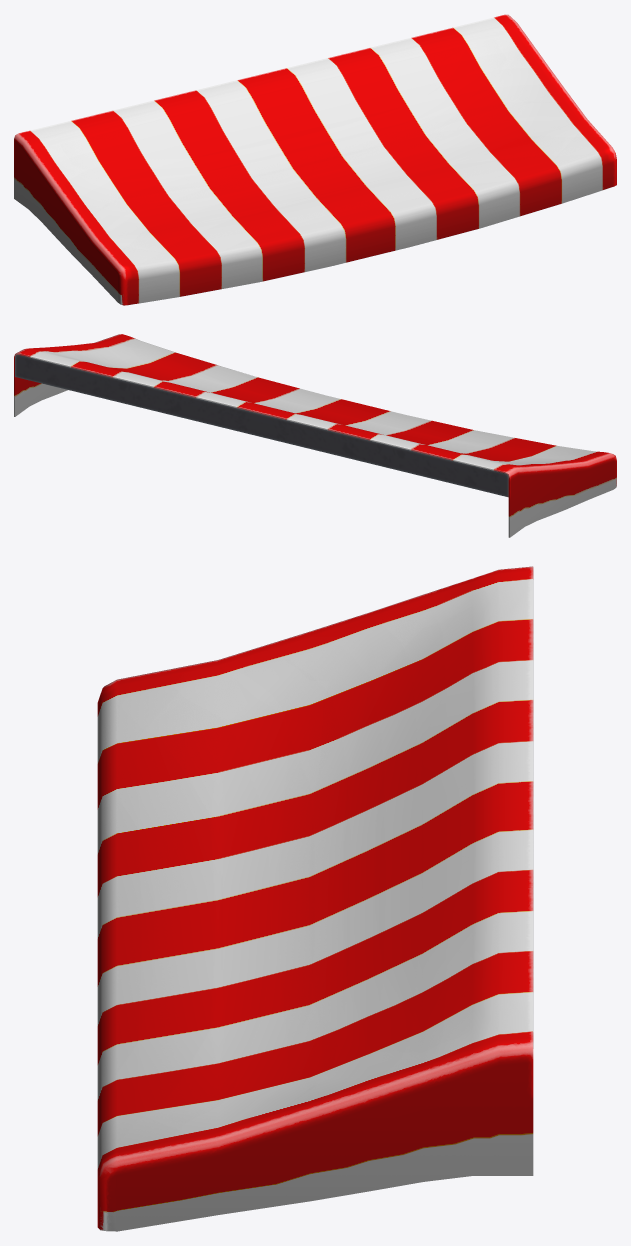
The model's file is StreetAwning01_1.FBX.
3 renders of one model, top to bottom at view 1: azimuth 30°, elevation 25°; view 2: azimuth 150°, elevation 25°; view 3: azimuth 270°, elevation 25°, orthographic. The views are drawn at different scales.
Visible parts, largest first — view 1: StreetAwning01_1; view 2: StreetAwning01_1; view 3: StreetAwning01_1.
Part boxes in pixels (<box>): StreetAwning01_1: <box>14,14,616,305</box>; StreetAwning01_1: <box>14,334,616,537</box>; StreetAwning01_1: <box>97,566,533,1231</box>.
Size of what is drawn, in the model's own units: 4.52 by 0.8983 by 1.72.
